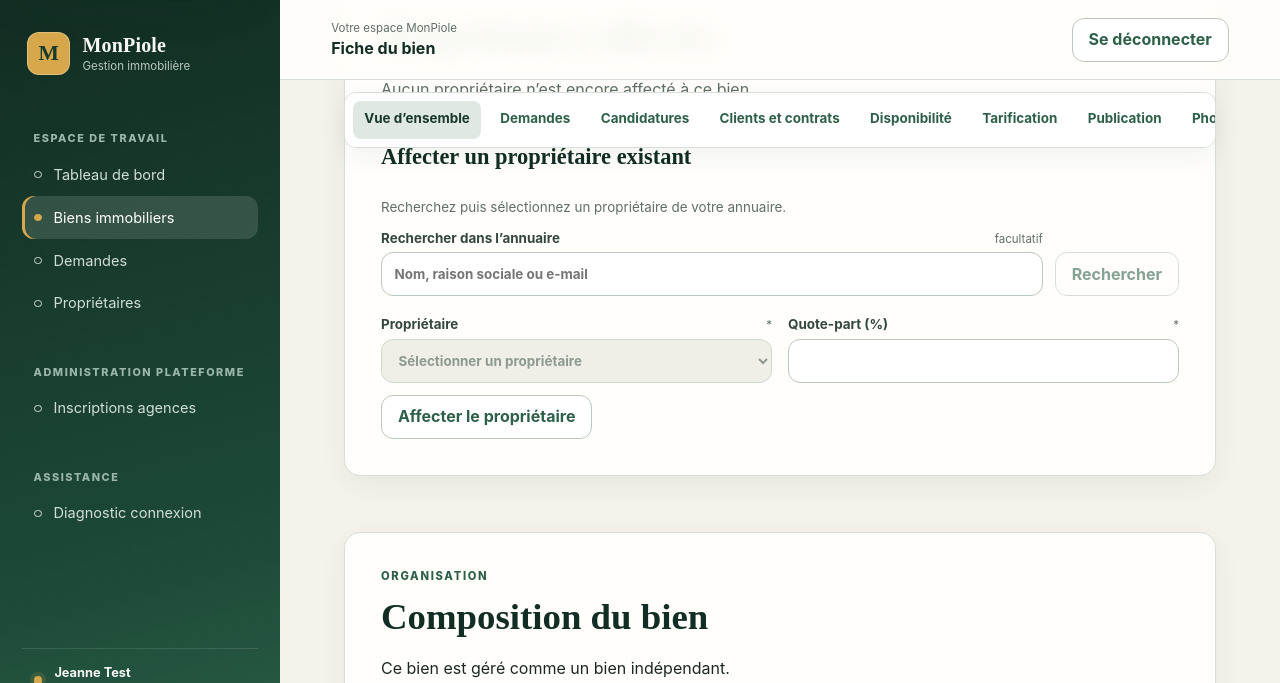
Test case: vertical slice Web Property › exige la sélection d’un propriétaire avant toute affectation
(page scrolled)
Type "60" into the number field labelled "Quote-part (%)" at (984, 361), box [788,339,1179,383]
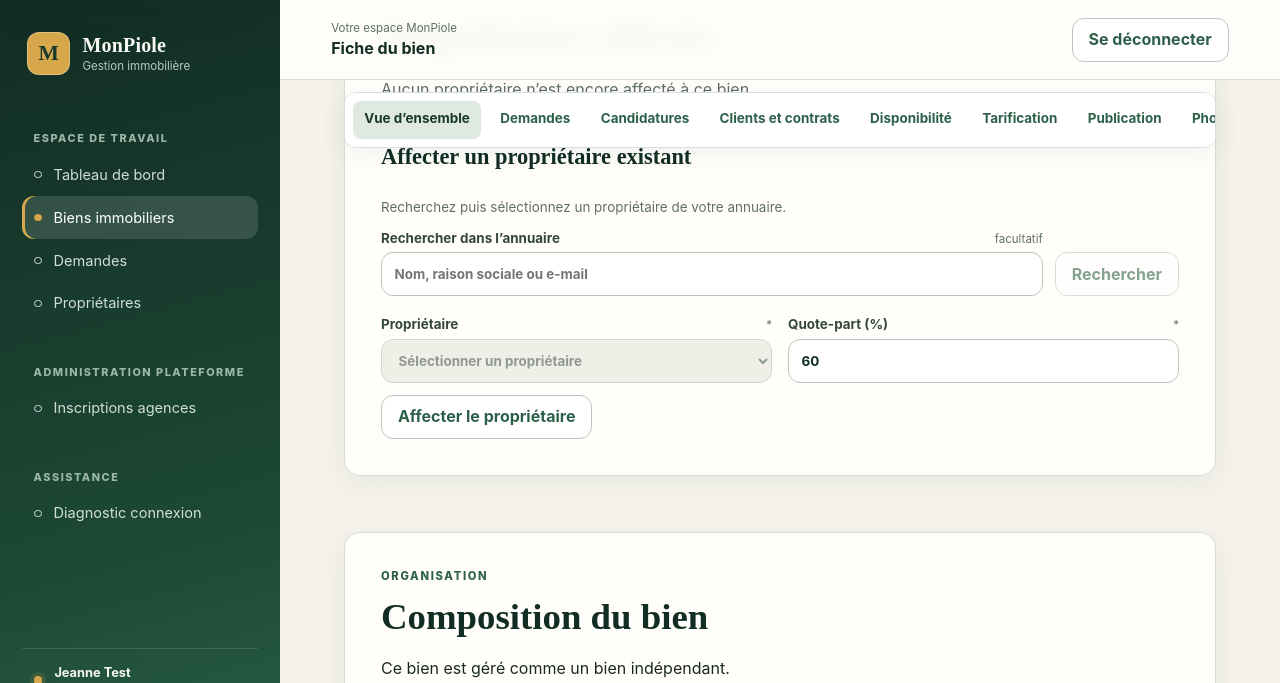
Click the button "Affecter le propriétaire" at (487, 417), box [381,395,592,439]
(page scrolled)
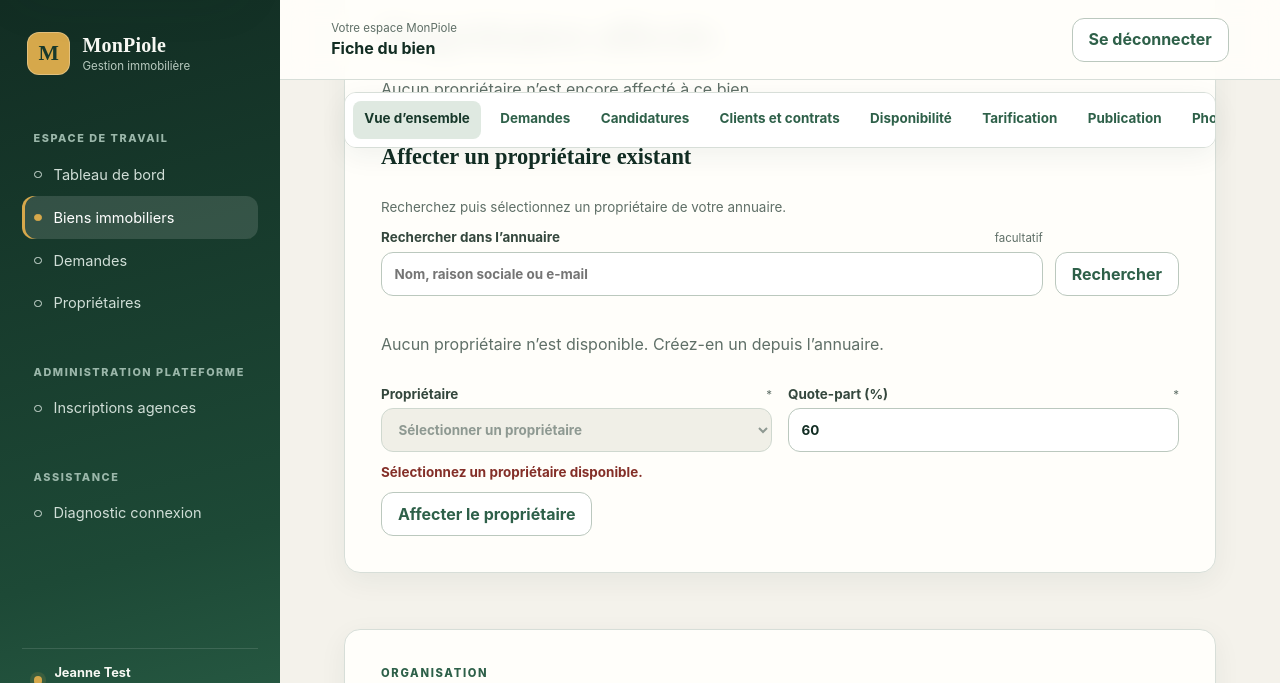
expect the text "Sélectionnez un propriétaire disponible." is shown: met, box [381,464,643,480]
